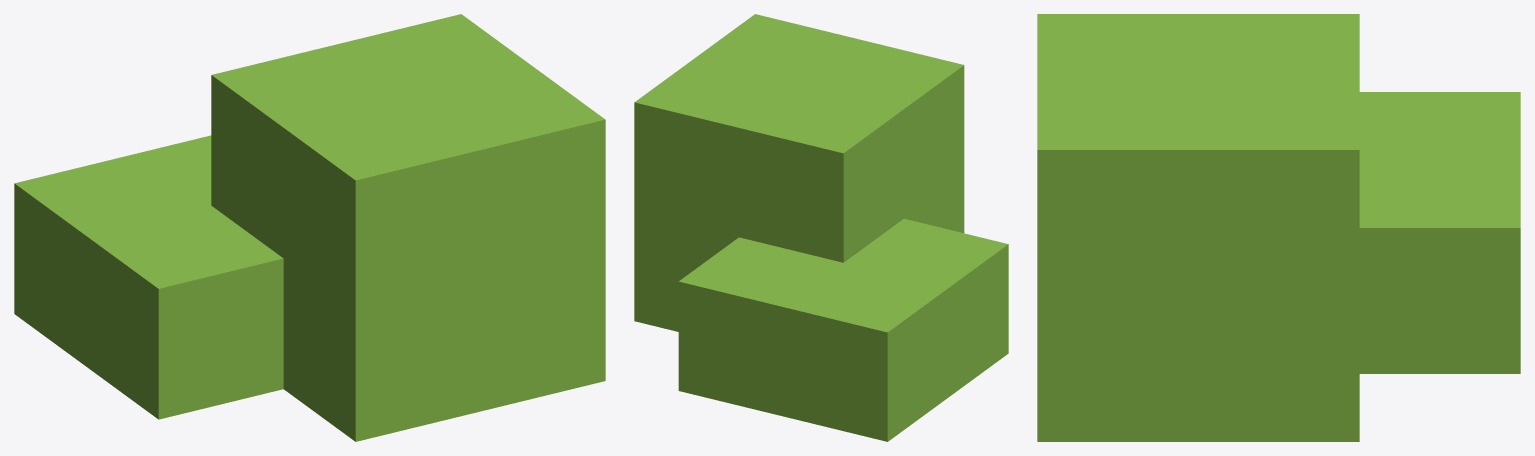
Rendered from Plants-4-Bush 2.obj.
3 renders of one model, left to right at view 1: azimuth 30°, elevation 25°; view 2: azimuth 150°, elevation 25°; view 3: azimuth 270°, elevation 25°, orthographic. The views are drawn at different scales.
Visible parts, largest first — view 1: Bush 2; view 2: Bush 2; view 3: Bush 2.
Part boxes in pixels (x1,y1,x2,y2): Bush 2: (14,14,605,441); Bush 2: (634,14,1008,441); Bush 2: (1037,14,1520,441).
Bounding box in the file's own units: 3 × 2 × 3.
Materials: 1 (1 with a texture image).
